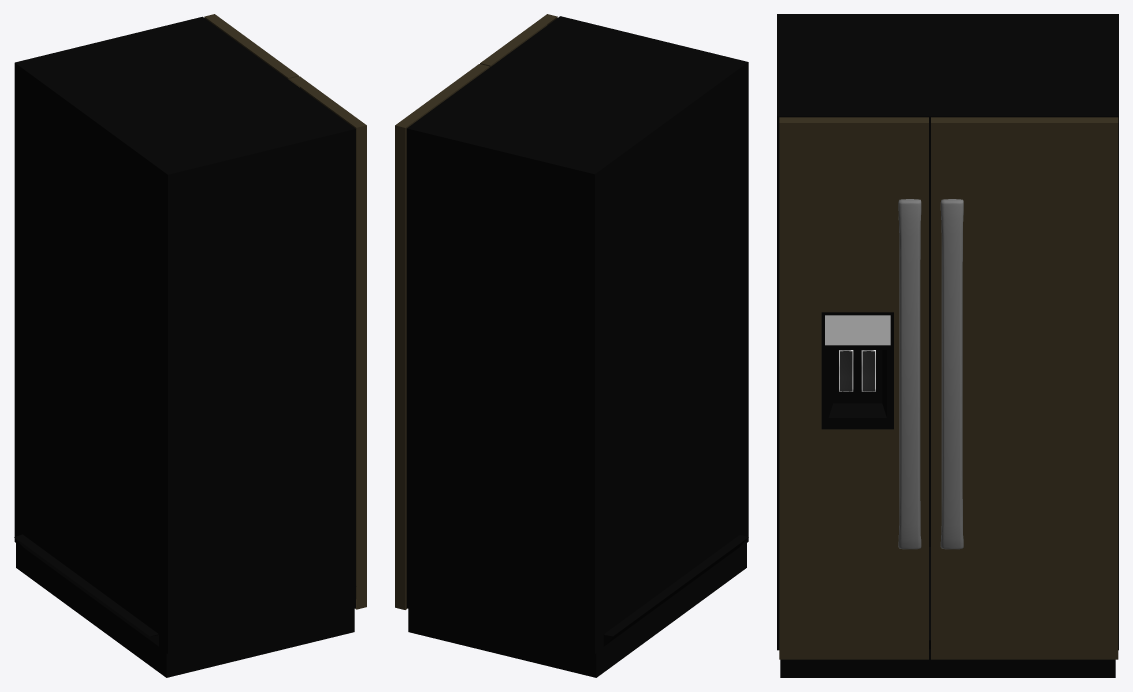
Rendered from Fridge.fbx.
3 renders of one model, left to right at view 1: azimuth 30°, elevation 25°; view 2: azimuth 150°, elevation 25°; view 3: azimuth 270°, elevation 25°, orthographic. The views are drawn at different scales.
Parts seen in each view (by area): view 1: Cube, Cube.002, Cube.001; view 2: Cube, Cube.001, Cube.002; view 3: Cube.001, Cube.002, Cube, Cube.006, Cube.007, Cube.004, Cube.003, Cube.005.
Part boxes in pixels (x1,y1,x2,y2): Cube: (14, 16, 356, 677); Cube.002: (289, 76, 366, 609); Cube.001: (204, 14, 298, 79); Cube: (406, 16, 748, 677); Cube.001: (395, 64, 489, 609); Cube.002: (480, 14, 557, 67); Cube.001: (931, 117, 1118, 659); Cube.002: (779, 117, 928, 659); Cube: (777, 14, 1118, 677); Cube.006: (898, 199, 921, 549); Cube.007: (940, 199, 963, 549); Cube.004: (821, 312, 893, 429); Cube.003: (839, 350, 853, 391); Cube.005: (861, 350, 875, 391).
Size of what is drawn, in the model's own units: 170 by 369 by 204.
